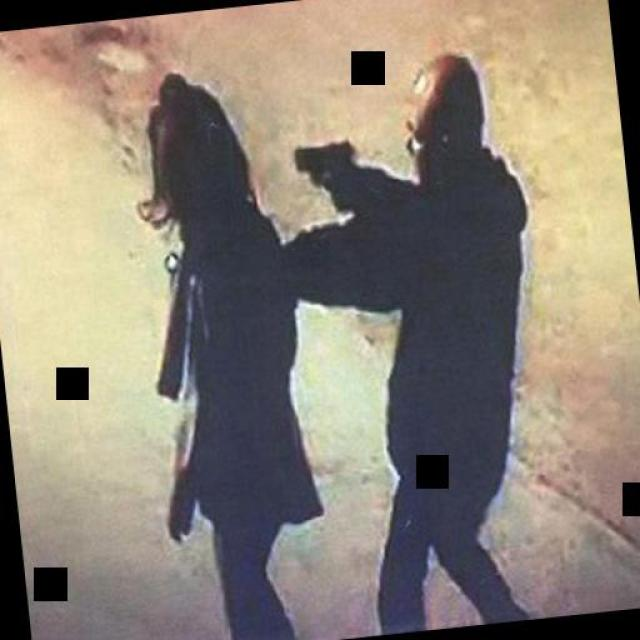gun: (284, 130, 365, 216)
